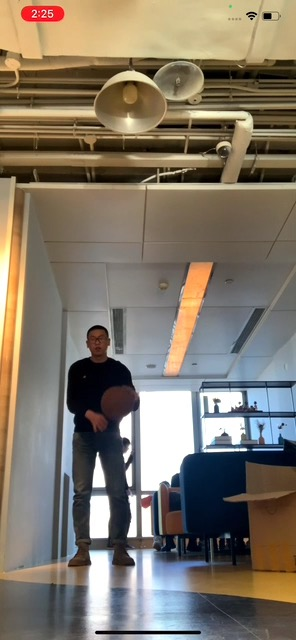ball: (100, 385, 137, 419)
